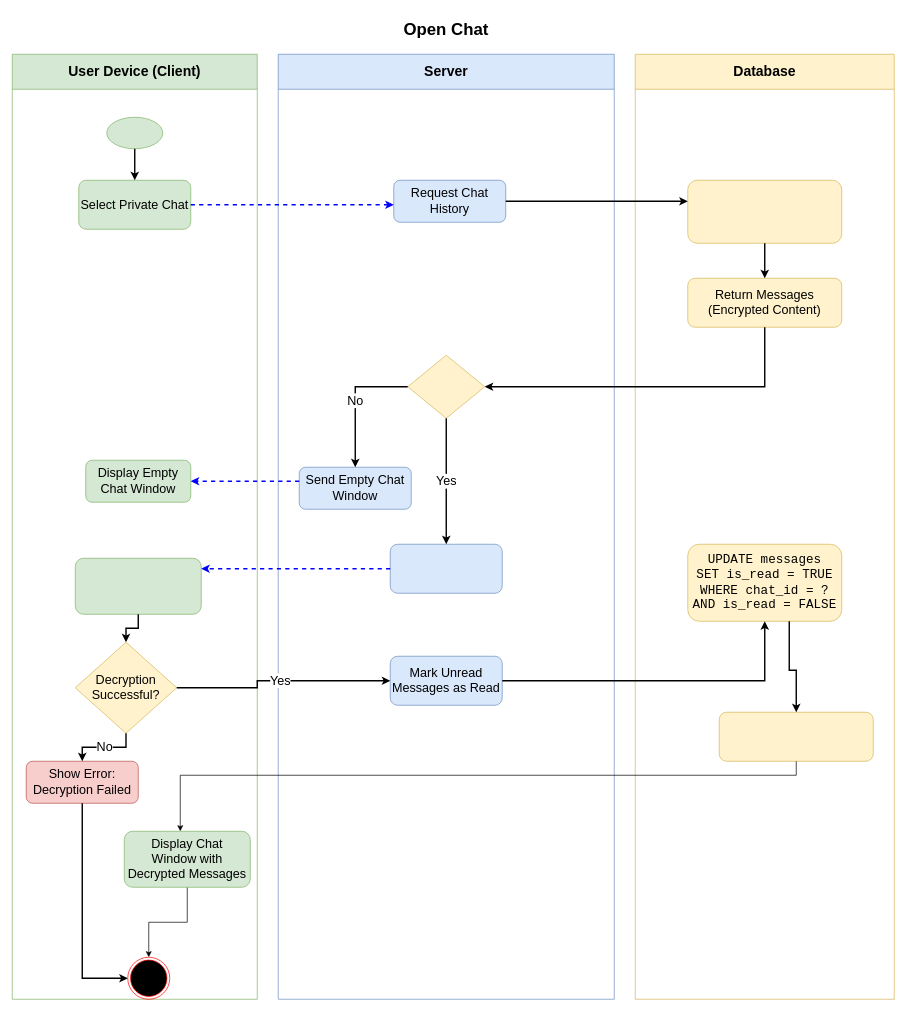
Some shapes in this 907 by 1012 pixel diagram are drawn without their labels. Here are the shapes that lost their labels. From the top down, the centre of each, then its label:
(x=134, y=133): Start
(x=764, y=211): SELECT messages WHERE chat_id = ? ORDER BY timestamp ASC
(x=446, y=386): Has Messages?
(x=138, y=586): Decrypt Messages on Device (Private Key)
(x=446, y=568): Send Encrypted Messages to Client
(x=796, y=736): Return Updated Rows Count
